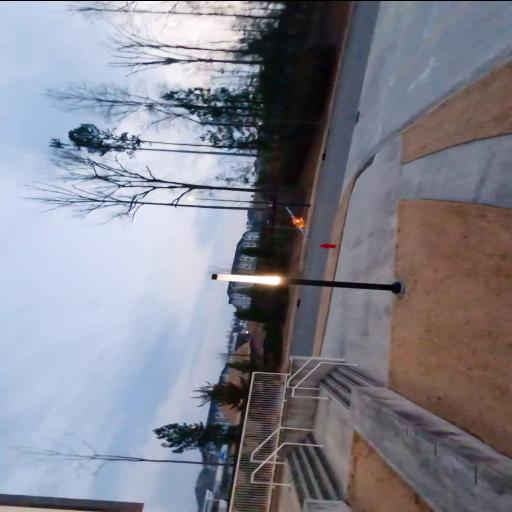uav: (282, 202, 312, 236)
